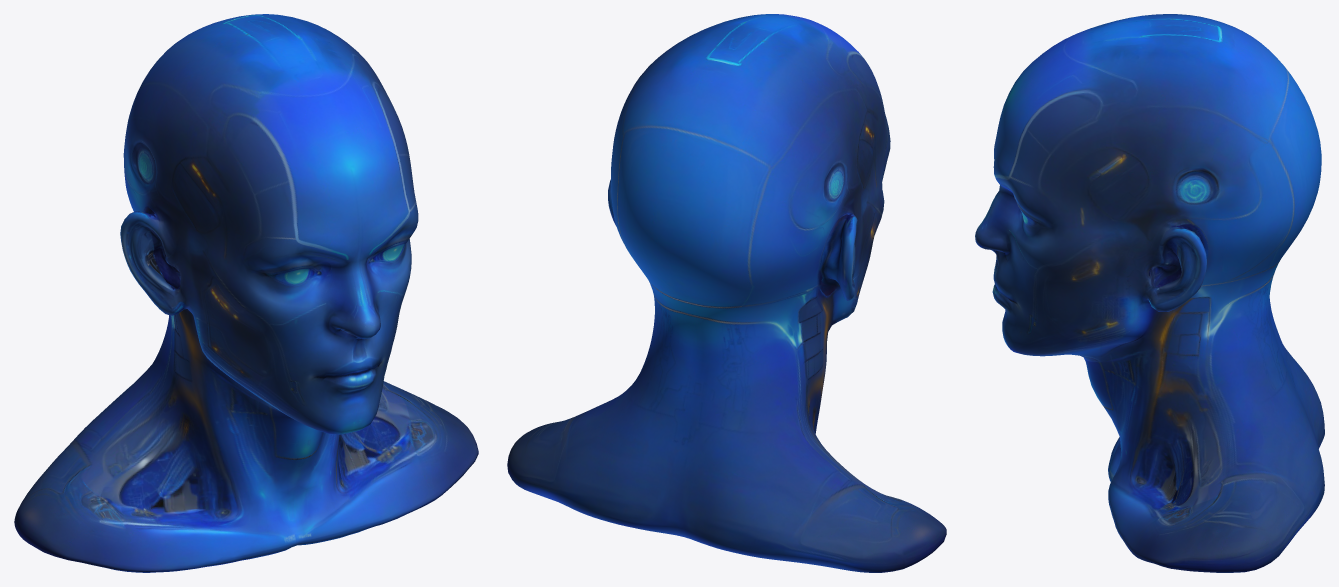
The model's file is head-ai.glb.
The picture shows the model from 3 angles, left to right: view 1: azimuth 30°, elevation 25°; view 2: azimuth 150°, elevation 25°; view 3: azimuth 270°, elevation 25°; orthographic projection. The views are drawn at different scales.
Size of the model in its own units: 1.85 by 2 by 1.36.
Materials: 1 (1 with a texture image).
